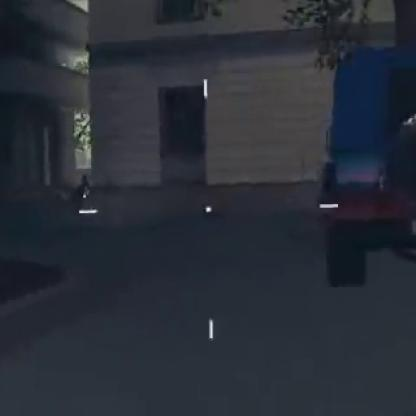enemy: (304, 1, 364, 73)
